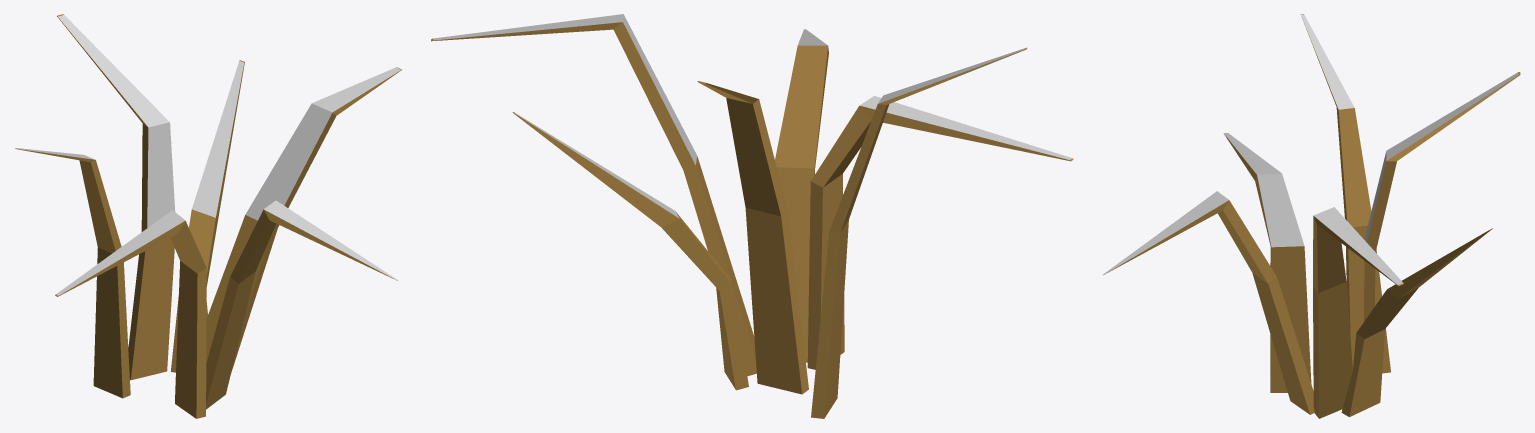
Rendered from foliage_grass.fbx.
3 views of the same model, side by side, from view 1: azimuth 30°, elevation 25°; view 2: azimuth 150°, elevation 25°; view 3: azimuth 270°, elevation 25° (orthographic). The views are drawn at different scales.
Visible parts, largest first — view 1: grass_LOD0; view 2: grass_LOD0; view 3: grass_LOD0.
Boxes of the visible parts, left/top/right/bottom form: grass_LOD0: left=15, top=14, right=401, bottom=418; grass_LOD0: left=431, top=14, right=1073, bottom=418; grass_LOD0: left=1103, top=14, right=1520, bottom=418.
Size of what is drawn, in the model's own units: 13.92 by 9.73 by 11.7.
